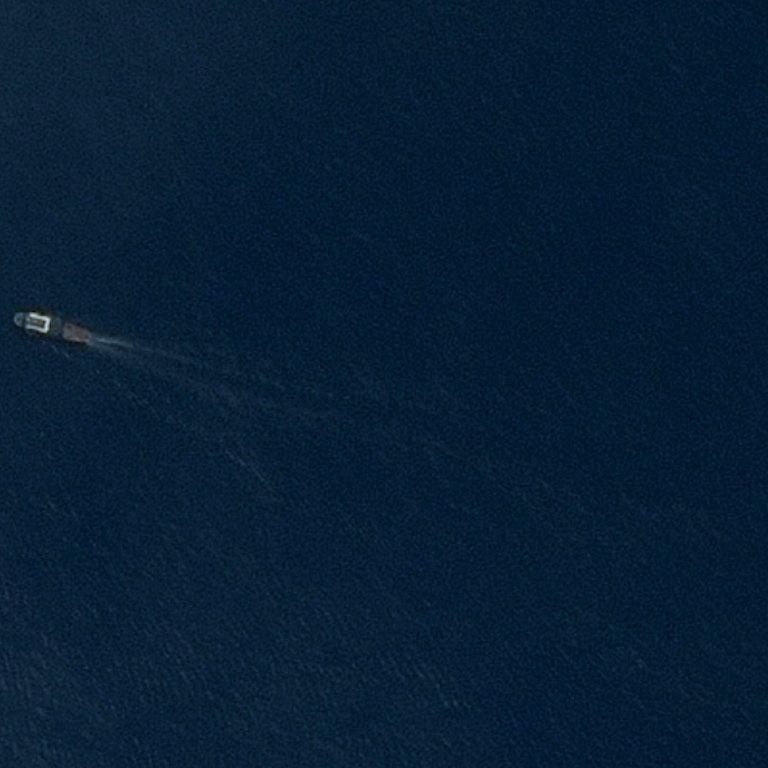ship: (50, 301, 52, 351), (12, 313, 18, 320), (83, 340, 88, 346), (86, 307, 91, 312)
